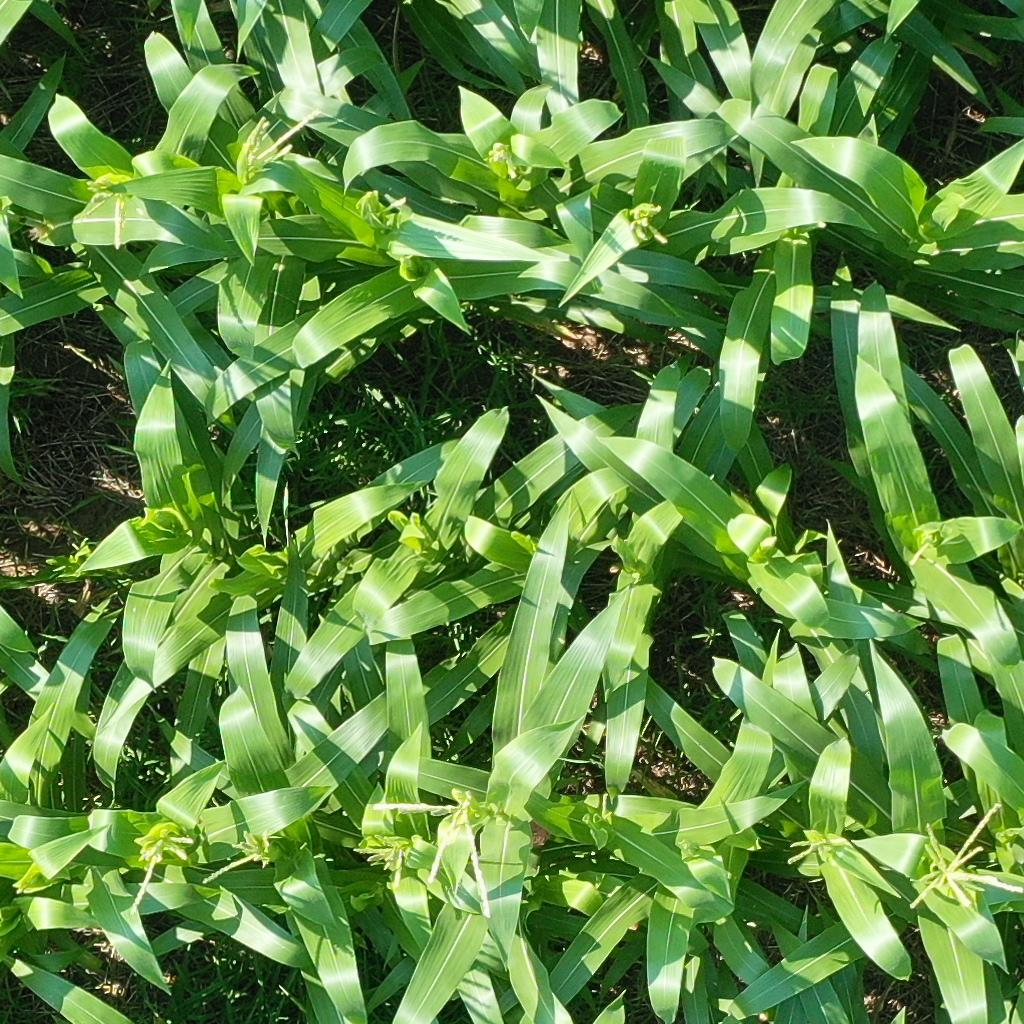Tassel: (369, 788, 509, 924), (908, 798, 1024, 911), (232, 105, 325, 178), (120, 833, 195, 914), (73, 172, 132, 248), (200, 829, 272, 885), (347, 186, 410, 233), (350, 839, 406, 891), (782, 831, 852, 871), (628, 200, 669, 247), (482, 135, 523, 182), (907, 524, 944, 568)
